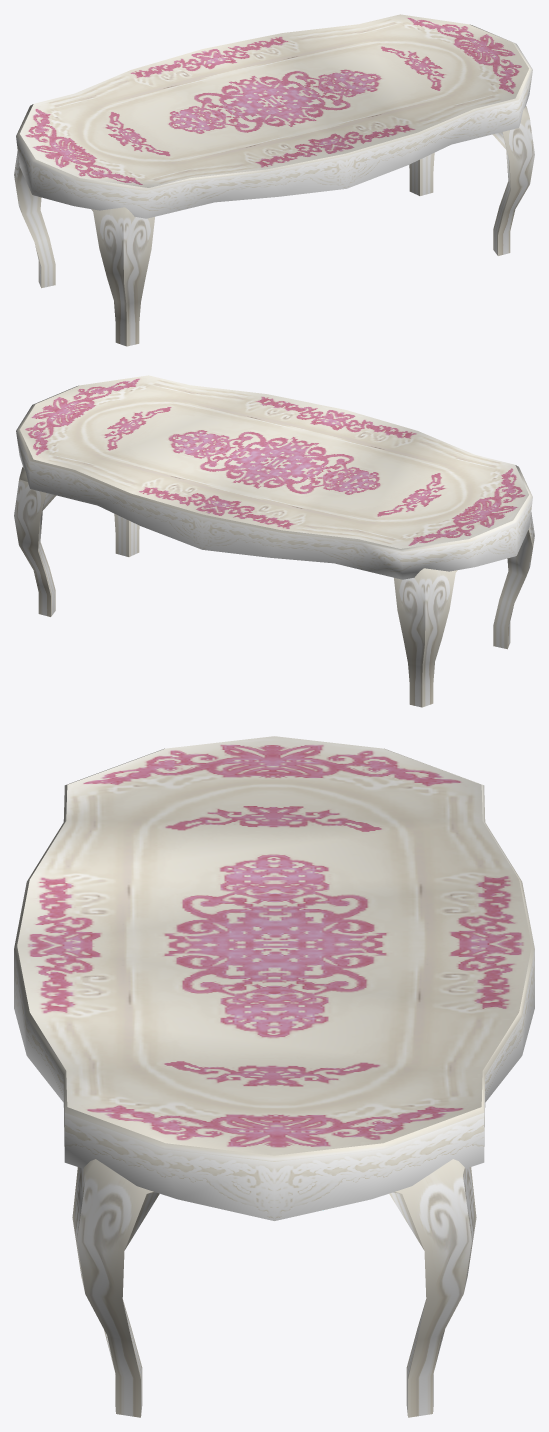
Rendered from RococoDiningTable_HD.fbx.
The picture shows the model from 3 angles, top to bottom: view 1: azimuth 30°, elevation 25°; view 2: azimuth 150°, elevation 25°; view 3: azimuth 270°, elevation 25°; orthographic projection. The views are drawn at different scales.
Parts seen in each view (by area): view 1: RococoDiningTable; view 2: RococoDiningTable; view 3: RococoDiningTable.
Part boxes in pixels (bbox=[...]): RococoDiningTable: bbox=[14, 14, 534, 346]; RococoDiningTable: bbox=[14, 375, 534, 707]; RococoDiningTable: bbox=[14, 736, 534, 1417].
Size of the model in its own units: 1.84 by 0.6024 by 0.9495.
